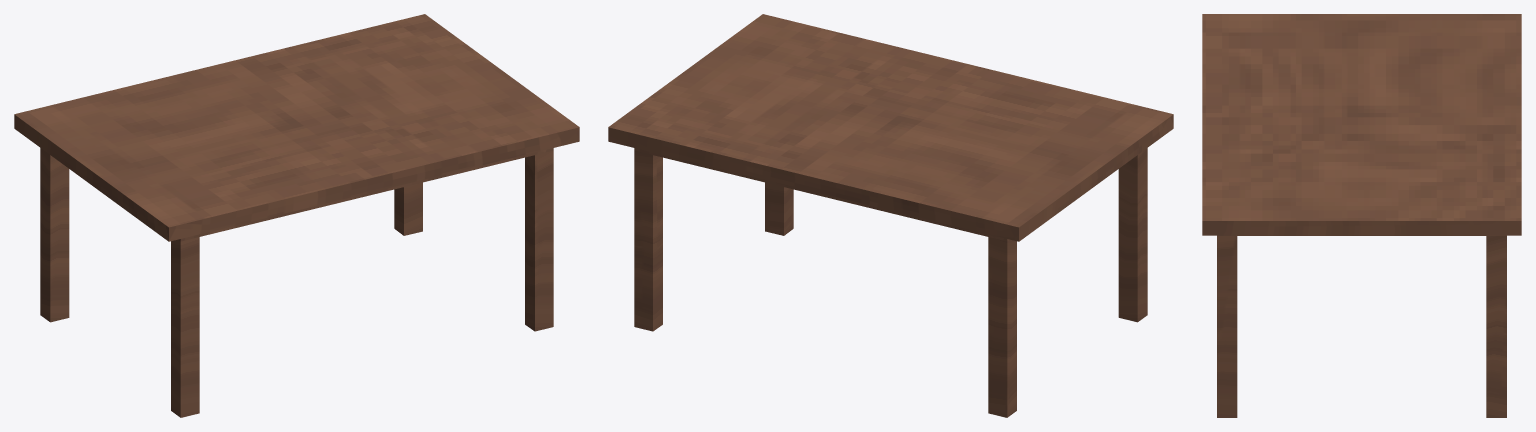
File: Mdl_Table.fbx
3 views of the same model, side by side, from view 1: azimuth 30°, elevation 25°; view 2: azimuth 150°, elevation 25°; view 3: azimuth 270°, elevation 25° (orthographic). The views are drawn at different scales.
Visible parts, largest first — view 1: table; view 2: table; view 3: table.
Part boxes in pixels (x1,y1,x2,y2): table: (14,14,579,417); table: (608,14,1173,417); table: (1202,14,1521,417).
Bounding box in the file's own units: 601 × 280 × 392.
1 material, 1 textured.
